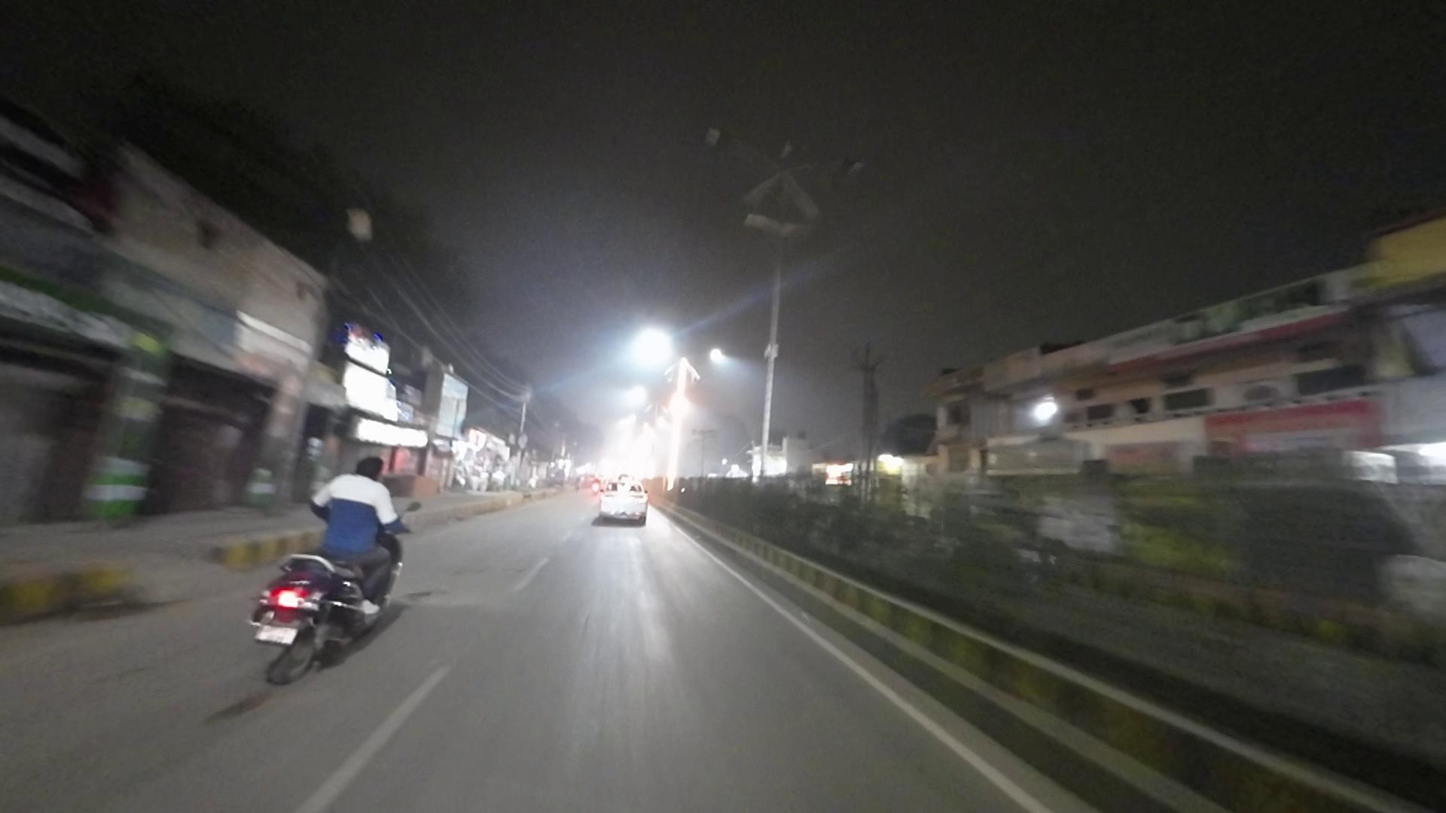streetlight: (702, 121, 779, 172), (800, 156, 872, 181)
